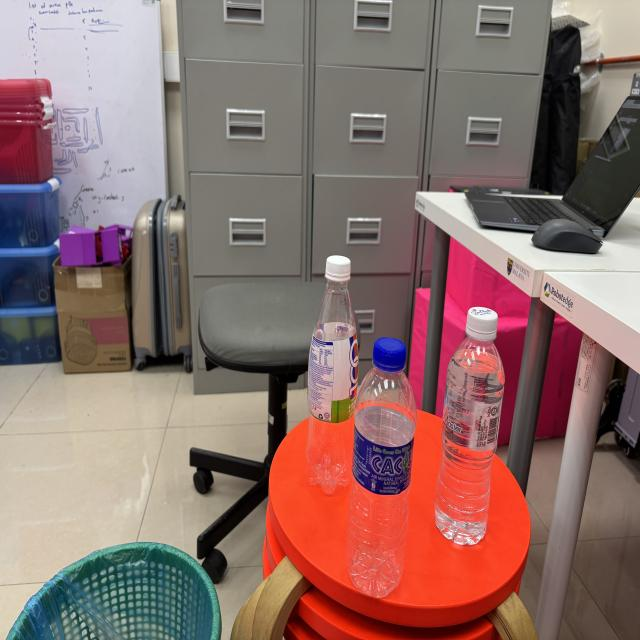plastic_bottle: (344, 330, 421, 607), (431, 297, 508, 559), (299, 234, 366, 505)
